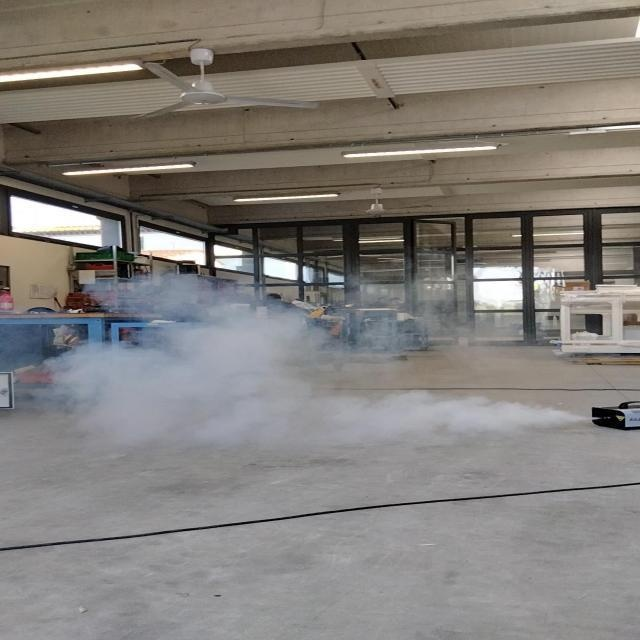smoke: (47, 271, 601, 475)
